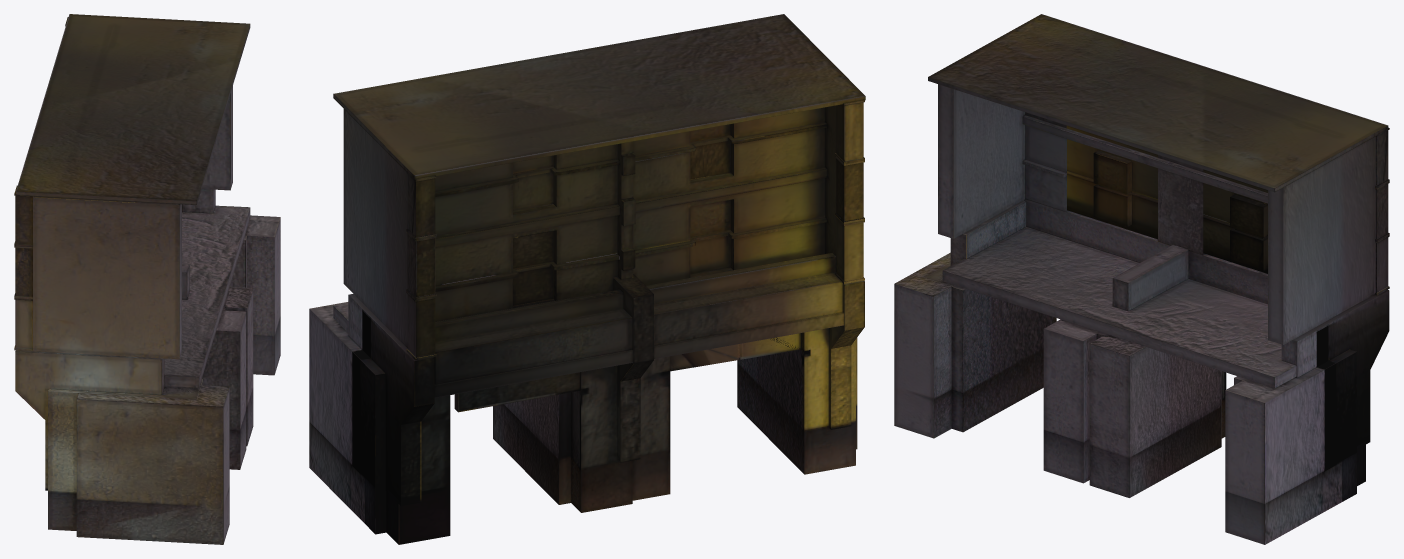
3 views of the same model, side by side, from view 1: azimuth 30°, elevation 25°; view 2: azimuth 150°, elevation 25°; view 3: azimuth 270°, elevation 25° (orthographic). The views are drawn at different scales.
Visible parts, largest first — view 1: b3; view 2: b3; view 3: b3.
Part boxes in pixels (x1,y1,x2,y2): b3: (14,14,280,544); b3: (309,14,865,544); b3: (894,14,1389,544).
Size of the model in its own units: 22.19 by 18.94 by 24.75.
Materials: 1 (1 with a texture image).
